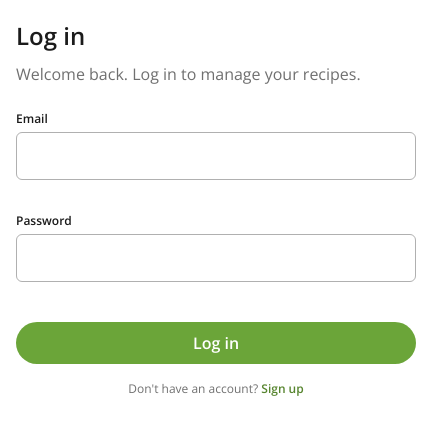
Scenario: Login page › shows an error message on invalid credentials
The image size is (433, 424).
Type "cook@example.com" into the field labelled "Email" at coordinates (216, 156), box [16,132,416,180]
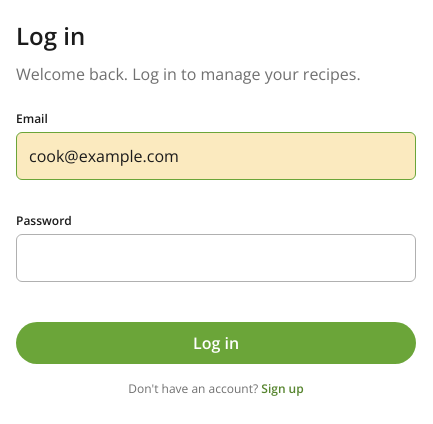
Type "wrong" into the password field labelled "Password" at coordinates (216, 258), box [16,234,416,282]
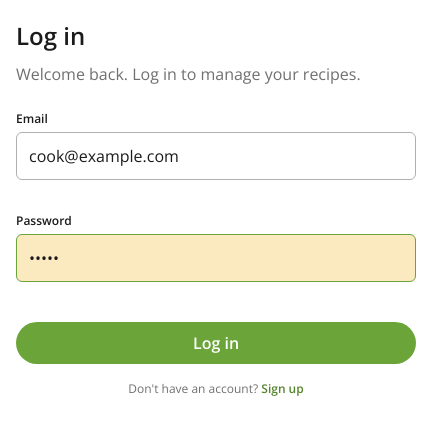
Click the button "Log in" at coordinates (216, 343), box [16,322,416,364]
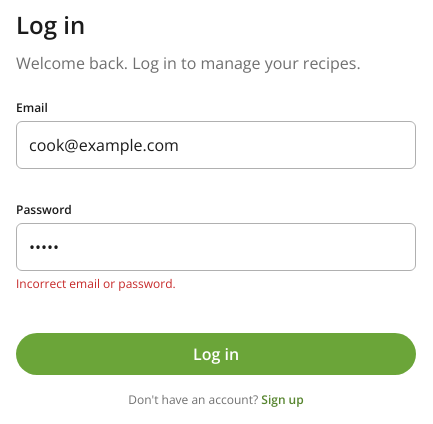
Expected: the text "Incorrect email or password." is shown, [16,275,176,292]
